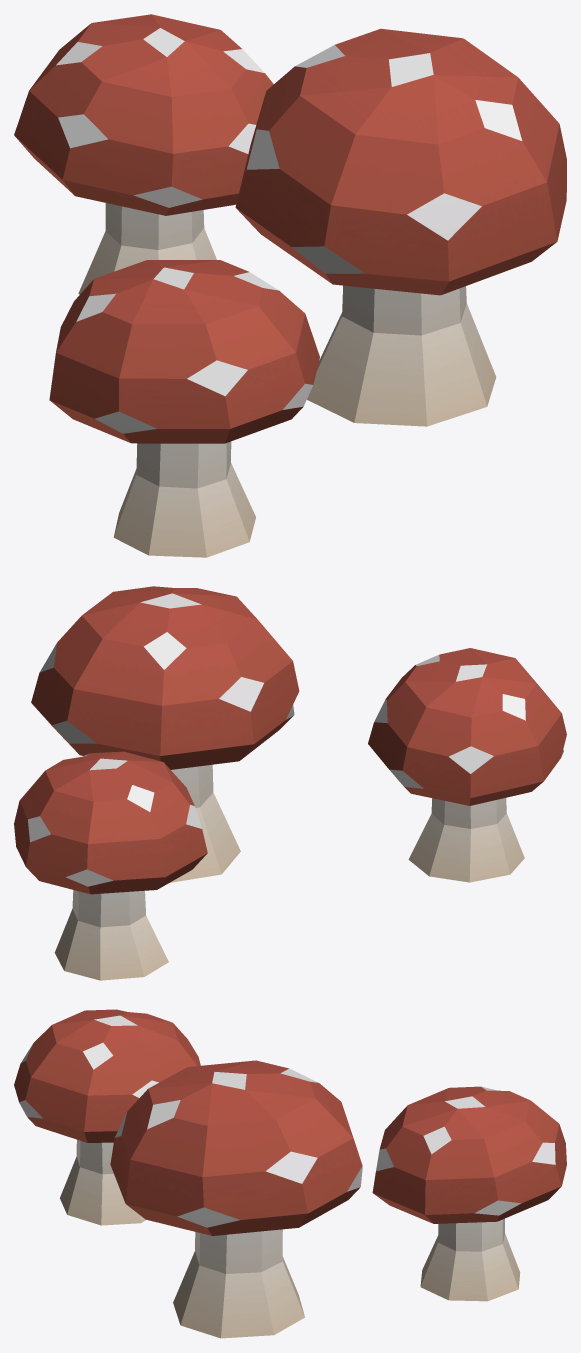
The picture shows the model from 3 angles, top to bottom: view 1: azimuth 30°, elevation 25°; view 2: azimuth 150°, elevation 25°; view 3: azimuth 270°, elevation 25°; orthographic projection. The views are drawn at different scales.
Visible parts, largest first — view 1: Mushrooms; view 2: Mushrooms; view 3: Mushrooms.
Boxes of the visible parts, x1=… form: Mushrooms: x1=14, y1=14, x2=566, y2=557; Mushrooms: x1=14, y1=586, x2=566, y2=980; Mushrooms: x1=14, y1=1009, x2=566, y2=1338.
Size of the model in its own units: 72.46 by 40 by 85.97.
Materials: 1 (1 with a texture image).
